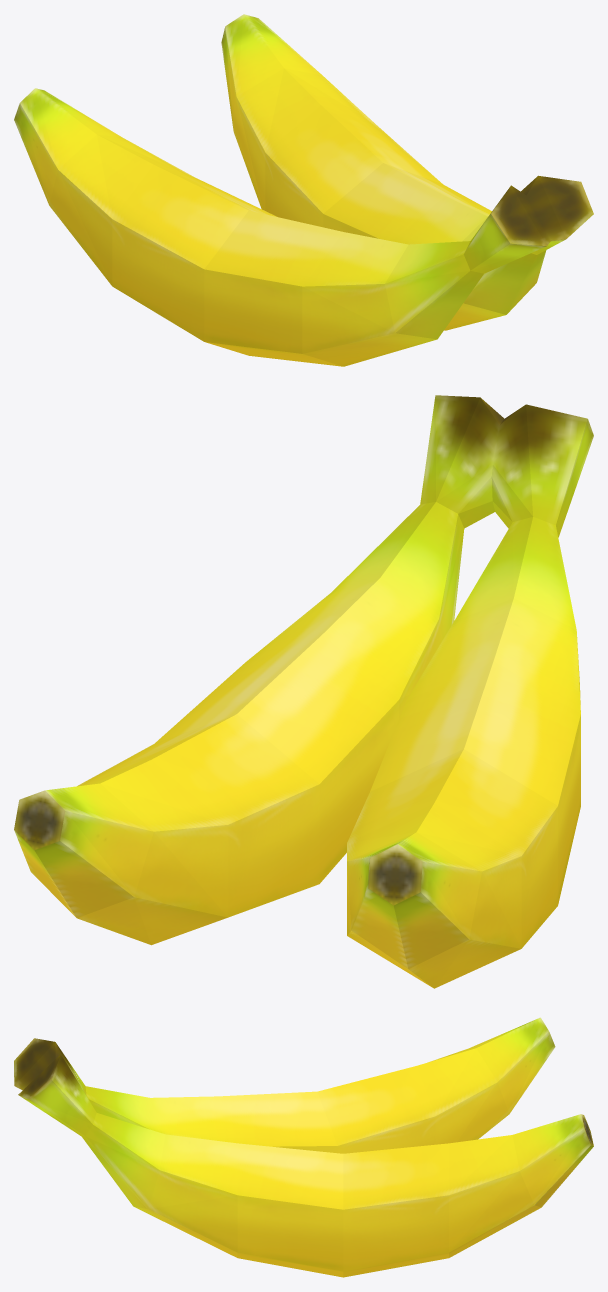
The model's file is bananas.gltf.
3 renders of one model, top to bottom at view 1: azimuth 30°, elevation 25°; view 2: azimuth 150°, elevation 25°; view 3: azimuth 270°, elevation 25°, orthographic. The views are drawn at different scales.
Parts seen in each view (by area): view 1: fruis_and_vegetables.039; view 2: fruis_and_vegetables.039; view 3: fruis_and_vegetables.039.
Boxes of the visible parts, x1,y1,x2,y2 form: fruis_and_vegetables.039: [14, 14, 593, 366]; fruis_and_vegetables.039: [14, 395, 593, 988]; fruis_and_vegetables.039: [14, 1017, 593, 1277].
Size of the model in its own units: 0.1988 by 0.1563 by 0.3761.
Materials: 1 (1 with a texture image).
